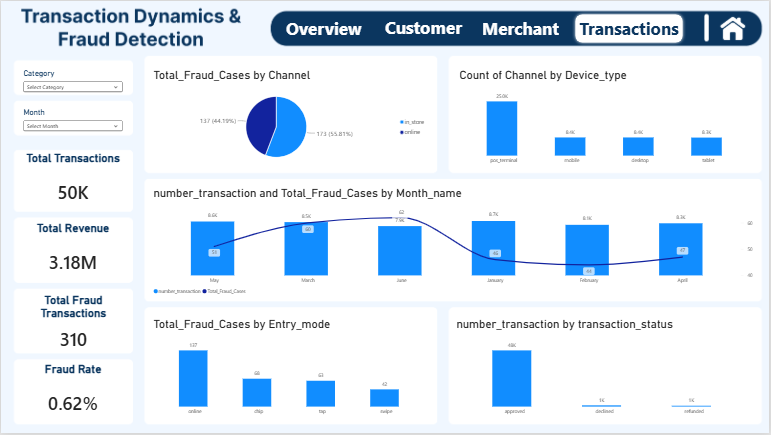

What the dashboard file says about the page in this screenshot:
{"tool":"powerbi","page":{"name":"Transaction page","canvas":[1920,1080],"ordinal":4},"visuals":[{"type":"textbox","box":[712.5,40,222.5,57.5],"z":0},{"type":"textbox","box":[960,37.5,200,57.5],"z":1},{"type":"textbox","box":[1202.5,40,205,57.5],"z":2},{"type":"shape","box":[1427.5,25,285,87.5],"z":3},{"type":"image","box":[1788.7,19.3,84.7,97.3],"z":4},{"type":"cardVisual","title":"Total Transactions","fields":{"Data":["Dax measure.number_transaction"]},"box":[38.8,375,280.6,150.9],"z":5},{"type":"cardVisual","title":"Total Revenue","fields":{"Data":["Dax measure.transaction_amount"]},"box":[38.8,548.8,280.6,150.9],"z":6},{"type":"cardVisual","title":"Total Fraud Transactions","fields":{"Data":["Dax measure.Total_Fraud_Cases"]},"box":[40,730,282.5,145],"z":7},{"type":"cardVisual","title":"Fraud Rate","fields":{"Data":["Dax measure.Fraud_Rate"]},"box":[40,901.2,280.6,150.9],"z":8},{"type":"listSlicer","fields":{"Values":["Gold DimDate.Full_date.Variation.Date Hierarchy.Month"]},"box":[40,252.5,280,81.2],"z":9},{"type":"listSlicer","fields":{"Values":["Gold DimTransaction.Category"]},"box":[40,153.8,280,80],"z":10},{"type":"lineStackedColumnComboChart","fields":{"Category":["Gold DimDate.Month_name"],"Y":["Dax measure.number_transaction"],"Y2":["Dax measure.Total_Fraud_Cases"]},"box":[365,450,1530,305],"z":11},{"type":"pieChart","fields":{"Category":["Gold DimTransaction.Channel"],"Y":["Dax measure.Total_Fraud_Cases"]},"box":[365,155,717.5,272.5],"z":12},{"type":"columnChart","fields":{"Category":["Gold DimTransaction.Entry_mode"],"Y":["Dax measure.Total_Fraud_Cases"]},"box":[365,777.5,717.5,277.5],"z":13},{"type":"columnChart","fields":{"Category":["Gold DimTransaction.Device_type"],"Y":["CountNonNull(Gold DimTransaction.Channel)"]},"box":[1130,155,765,272.5],"z":14},{"type":"columnChart","fields":{"Category":["Gold DimTransaction.transaction_status"],"Y":["Dax measure.number_transaction"]},"box":[1122.5,777.5,772.5,277.5],"z":15}]}

Visuals, with their boxes in screenshot pixels (x1, y1, x2, y2), scaled from the page's 1920x1080 canvas onto the 771x435 screenshot:
textbox: (286,16,375,39)
textbox: (386,15,466,38)
textbox: (483,16,565,39)
shape: (573,10,688,45)
image: (718,8,752,47)
"Total Transactions" cardVisual: (16,151,128,212)
"Total Revenue" cardVisual: (16,221,128,282)
"Total Fraud Transactions" cardVisual: (16,294,130,352)
"Fraud Rate" cardVisual: (16,363,129,424)
listSlicer - Gold DimDate.Full_date.Variation.Date Hierarchy.Month: (16,102,128,134)
listSlicer - Gold DimTransaction.Category: (16,62,128,94)
lineStackedColumnComboChart - Gold DimDate.Month_name x Dax measure.number_transaction: (147,181,761,304)
pieChart - Gold DimTransaction.Channel x Dax measure.Total_Fraud_Cases: (147,62,435,172)
columnChart - Gold DimTransaction.Entry_mode x Dax measure.Total_Fraud_Cases: (147,313,435,425)
columnChart - Gold DimTransaction.Device_type x CountNonNull(Gold DimTransaction.Channel): (454,62,761,172)
columnChart - Gold DimTransaction.transaction_status x Dax measure.number_transaction: (451,313,761,425)
